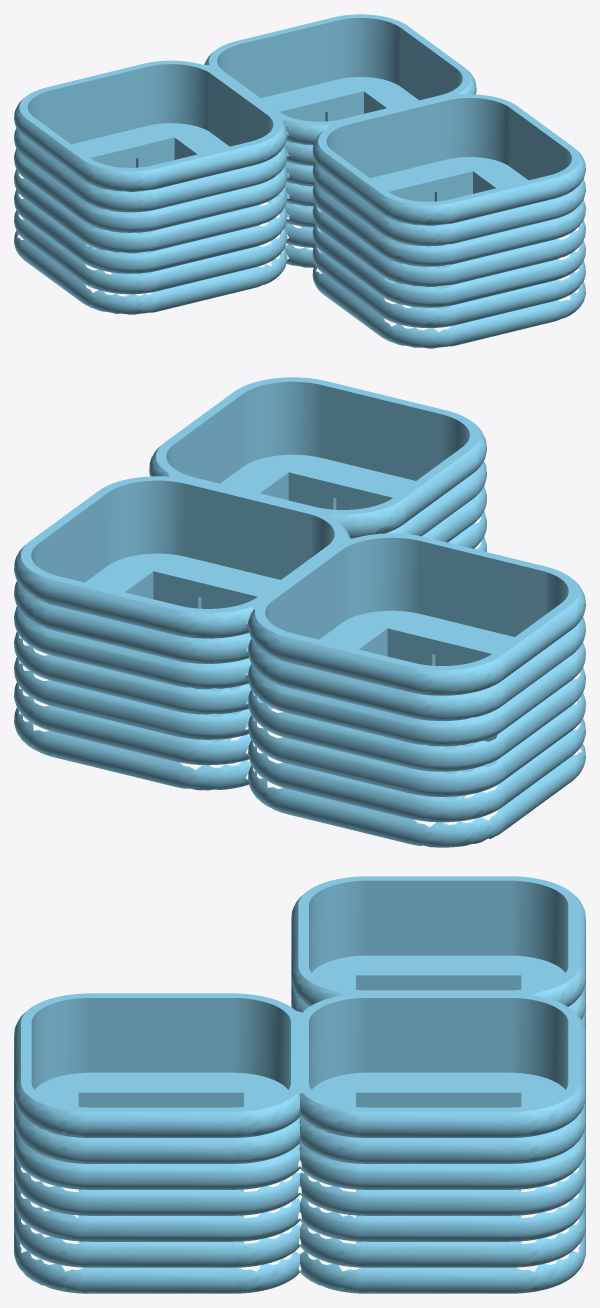
File: gallery-1.glb
3 views of the same model, one above another, from view 1: azimuth 30°, elevation 25°; view 2: azimuth 150°, elevation 25°; view 3: azimuth 270°, elevation 25° (orthographic). The views are drawn at different scales.
Bounding box in the file's own units: 48.49 × 17 × 48.49.
